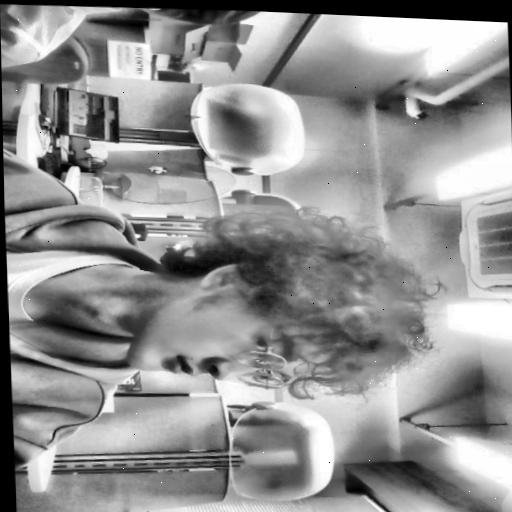Daifuku: (118, 201, 428, 393)
